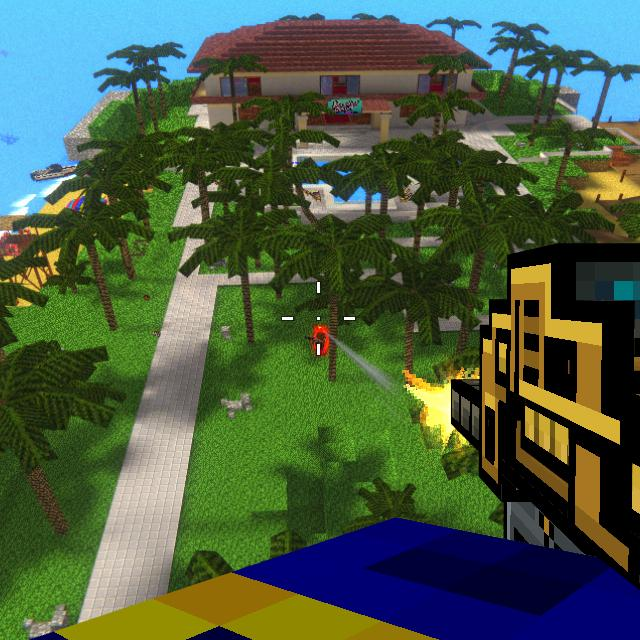Enemy: (313, 333, 327, 355)
